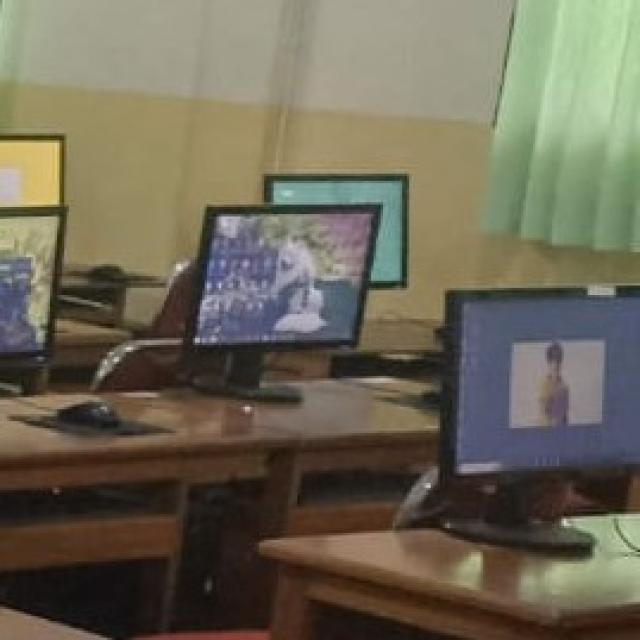onscreen: (441, 291, 640, 476), (192, 208, 379, 347), (265, 175, 408, 287), (0, 216, 56, 353), (0, 135, 64, 207)
